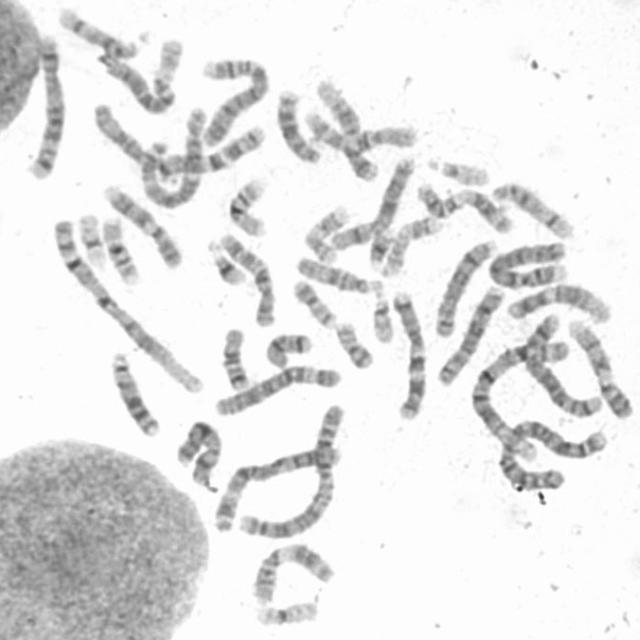A1: (49, 211, 205, 396), (467, 337, 573, 457)
A2: (229, 402, 348, 542), (493, 415, 610, 492)
A3: (211, 435, 344, 536), (140, 104, 207, 212)
B4: (198, 56, 273, 150), (485, 237, 570, 291)
B5: (521, 311, 604, 418), (22, 31, 66, 182)
C10: (217, 228, 276, 329), (300, 114, 420, 153)
C11: (247, 540, 340, 606), (412, 180, 515, 235)
C12: (312, 76, 382, 184), (502, 282, 613, 324)
C6: (210, 362, 344, 418), (96, 33, 185, 116)
C7: (150, 120, 267, 182), (388, 288, 428, 421)
C8: (432, 282, 506, 388), (431, 235, 498, 338)
C9: (99, 181, 184, 271), (566, 315, 634, 421)
D13: (107, 348, 161, 438), (274, 86, 322, 165)
D14: (488, 179, 576, 241), (55, 4, 140, 60)
D15: (89, 101, 148, 168), (294, 253, 382, 296)
E16: (98, 214, 141, 286), (223, 174, 271, 238)
E17: (377, 212, 445, 278), (300, 201, 352, 265)
E18: (260, 329, 314, 371), (218, 324, 251, 392)
F19: (251, 597, 320, 628), (74, 209, 109, 269)
F20: (291, 276, 338, 330), (332, 317, 375, 371)
G21: (205, 237, 246, 288), (365, 225, 396, 272)
G22: (425, 154, 491, 188), (369, 293, 395, 344)
X: (326, 153, 416, 253), (172, 416, 222, 490)
